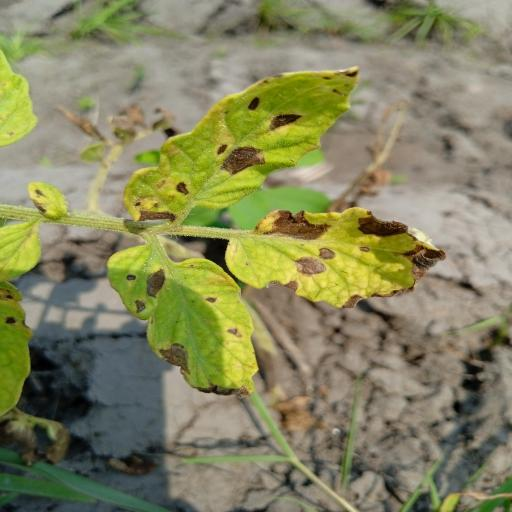Tomato_Brown_Spots: (127, 64, 366, 224), (102, 239, 268, 401), (219, 202, 447, 312)
